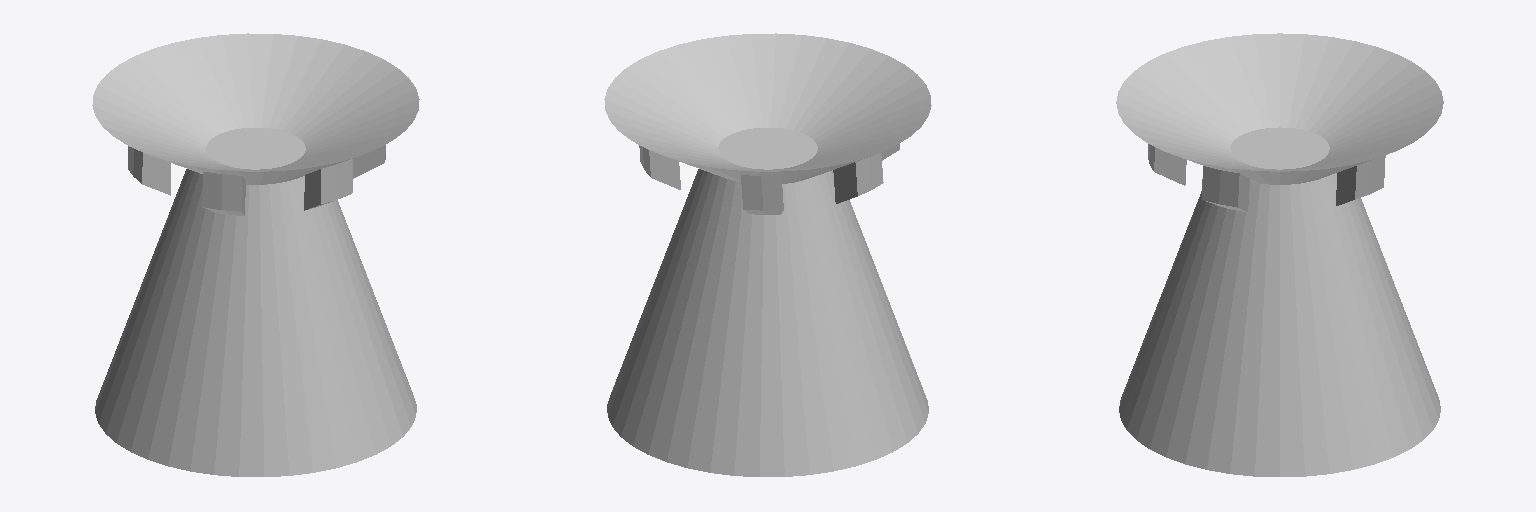
The model's file is nahodkasud.obj.
3 views of the same model, side by side, from view 1: azimuth 30°, elevation 25°; view 2: azimuth 150°, elevation 25°; view 3: azimuth 270°, elevation 25° (orthographic).
Visible parts, largest first — view 1: Cylinder; view 2: Cylinder; view 3: Cylinder.
Boxes of the visible parts, <box> form: Cylinder: <box>92,33,419,476</box>; Cylinder: <box>604,33,931,476</box>; Cylinder: <box>1116,33,1443,476</box>.
Bounding box in the file's own units: 3.28 × 3.39 × 3.28.